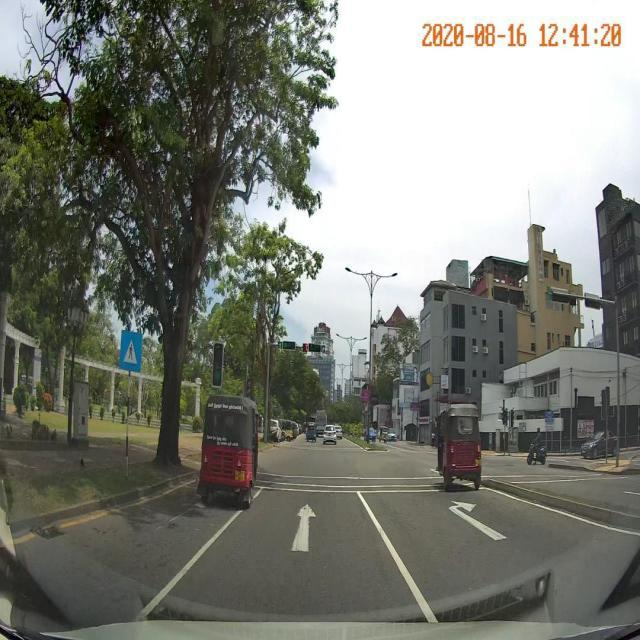Strelka vpered: (290, 502, 317, 552)
Strelka vpravo: (449, 501, 508, 541)
